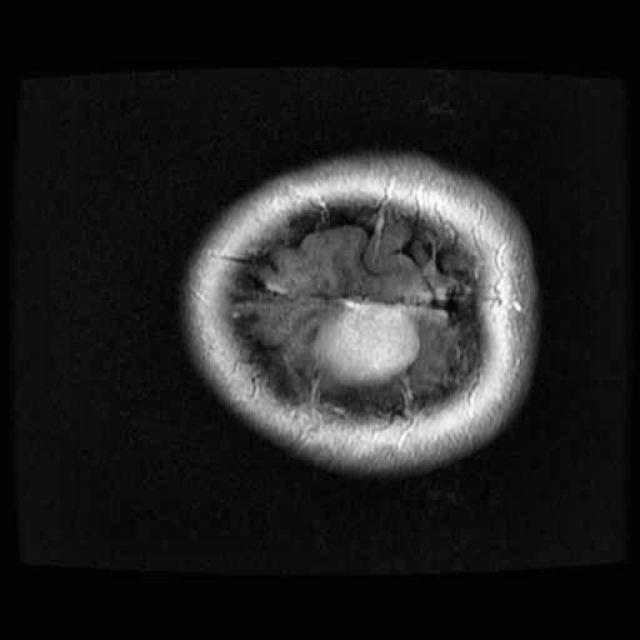Tumor: (302, 289, 426, 391)
